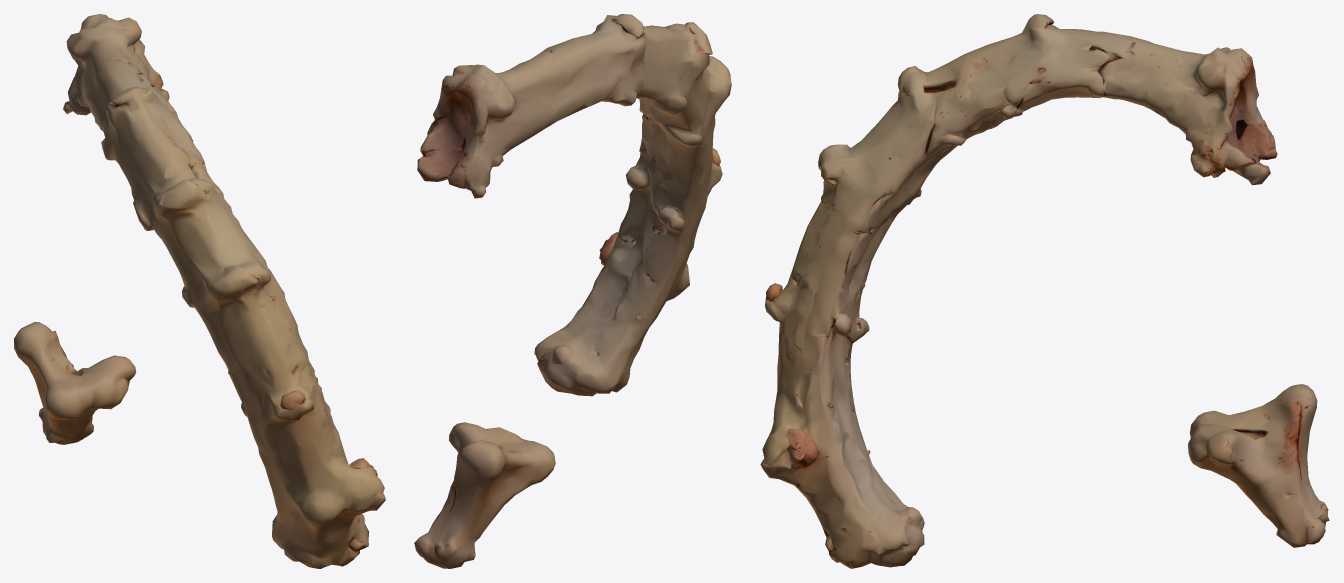
The model's file is rib.glb.
The picture shows the model from 3 angles, left to right: view 1: azimuth 30°, elevation 25°; view 2: azimuth 150°, elevation 25°; view 3: azimuth 270°, elevation 25°; orthographic projection. The views are drawn at different scales.
Visible parts, largest first — view 1: tripo_node_ad3afd52-43c8-4dd0-987c-edae272bc7d0; view 2: tripo_node_ad3afd52-43c8-4dd0-987c-edae272bc7d0; view 3: tripo_node_ad3afd52-43c8-4dd0-987c-edae272bc7d0.
Part boxes in pixels (box(x1,y1,x2,y2)): tripo_node_ad3afd52-43c8-4dd0-987c-edae272bc7d0: box(14, 14, 385, 568); tripo_node_ad3afd52-43c8-4dd0-987c-edae272bc7d0: box(414, 14, 731, 568); tripo_node_ad3afd52-43c8-4dd0-987c-edae272bc7d0: box(760, 14, 1329, 568).
Bounding box in the file's own units: 0.4139 × 0.9628 × 1.
Materials: 1 (1 with a texture image).
